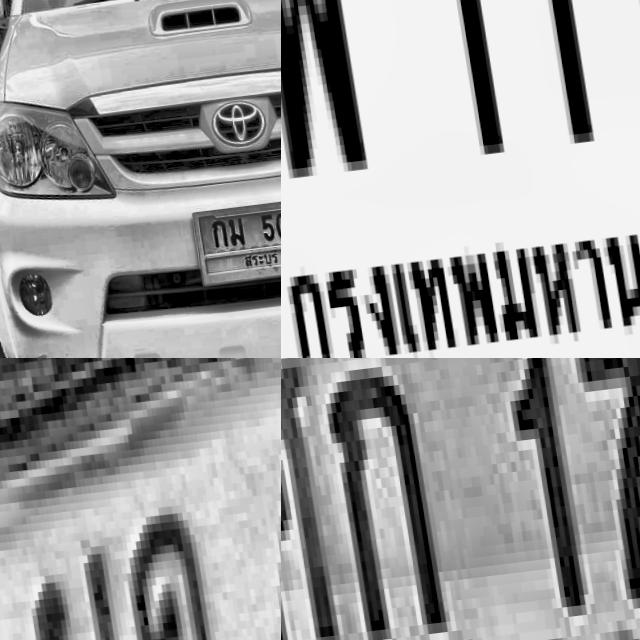license-plate: (281, 0, 640, 358), (281, 358, 640, 640), (0, 358, 281, 640), (184, 195, 281, 289)
